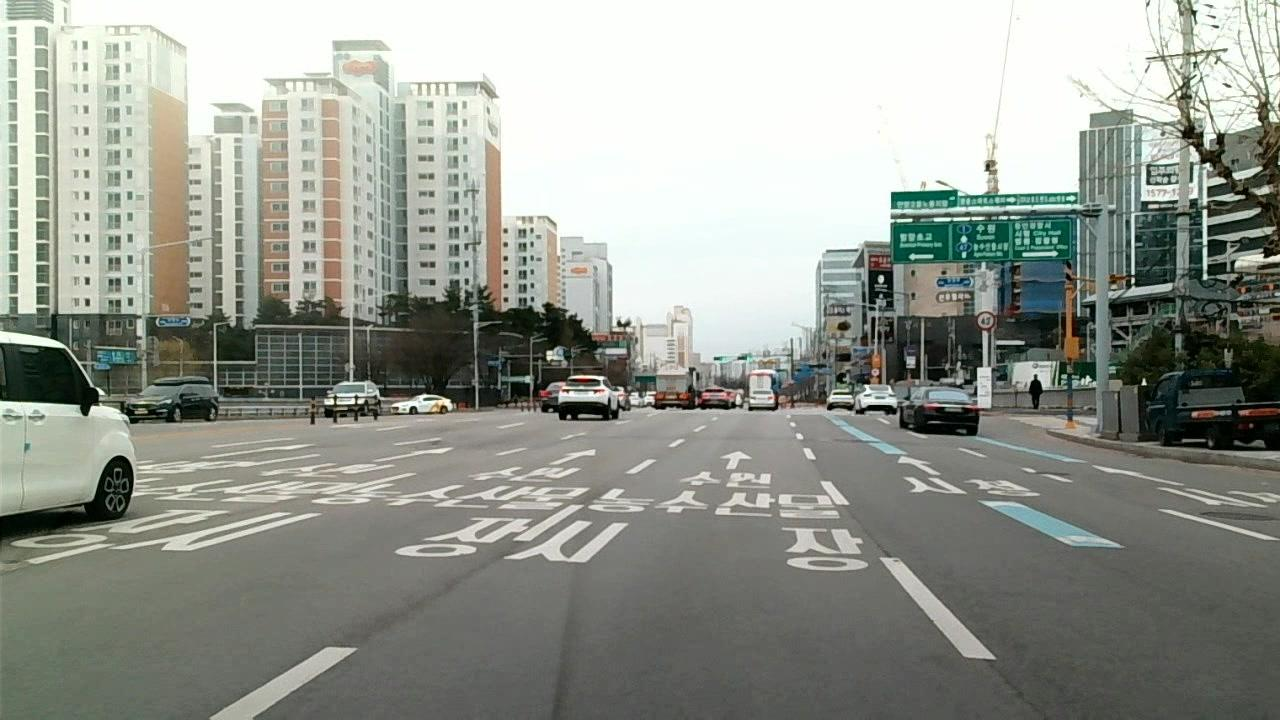vcrack: (346, 548, 515, 645), (985, 657, 1042, 720), (842, 504, 892, 557)
